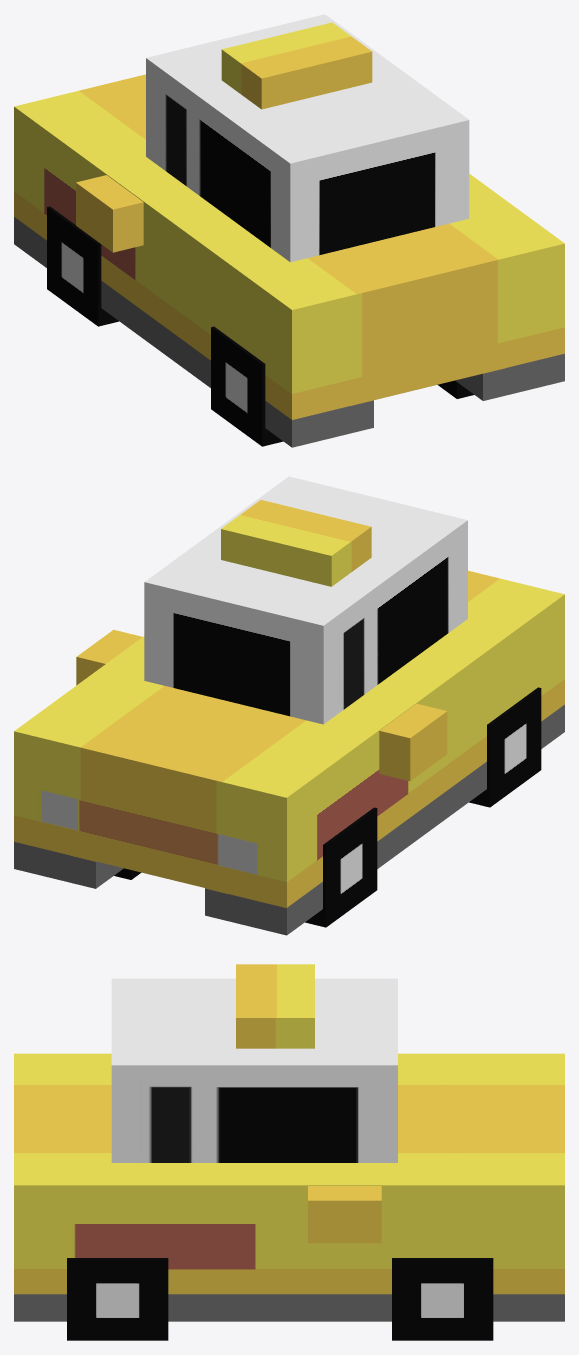
Rendered from taxi car.fbx.
3 renders of one model, top to bottom at view 1: azimuth 30°, elevation 25°; view 2: azimuth 150°, elevation 25°; view 3: azimuth 270°, elevation 25°, orthographic.
Parts seen in each view (by area): view 1: midden, dakje, taxilampje, wiel5, wiel6, deurknop4; view 2: midden, dakje, taxilampje, wiel6, wiel5, deurknop4, deurknop1; view 3: midden, dakje, wiel3, wiel4, taxilampje, deurknop1.
Part boxes in pixels (box(x1,y1,x2,y2)): midden: box(14, 74, 564, 447); dakje: box(146, 14, 469, 262); taxilampje: box(221, 22, 372, 109); wiel5: box(211, 326, 283, 446); wiel6: box(47, 206, 118, 326); deurknop4: box(76, 175, 143, 252); midden: box(14, 570, 564, 935); dakje: box(144, 476, 467, 724); taxilampje: box(221, 500, 371, 586); wiel6: box(305, 807, 377, 927); wiel5: box(469, 687, 541, 807); deurknop4: box(379, 703, 447, 781); deurknop1: box(76, 629, 142, 685); midden: box(14, 1053, 564, 1321); dakje: box(111, 978, 397, 1162); wiel3: box(392, 1258, 493, 1340); wiel4: box(67, 1258, 168, 1340); taxilampje: box(236, 964, 314, 1048); deurknop1: box(308, 1186, 381, 1243).
Size of the model in its own units: 2.04 by 1.66 by 2.94.
Materials: 5 (5 with a texture image).
